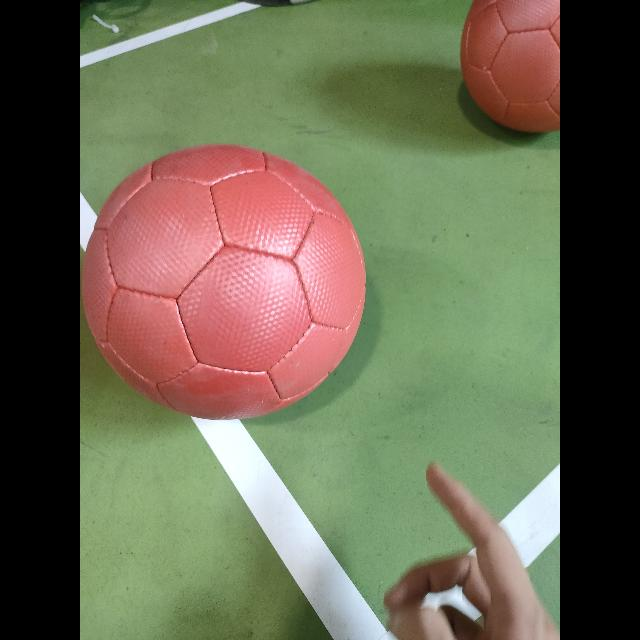R: (82, 146, 366, 420), (460, 0, 560, 134)
